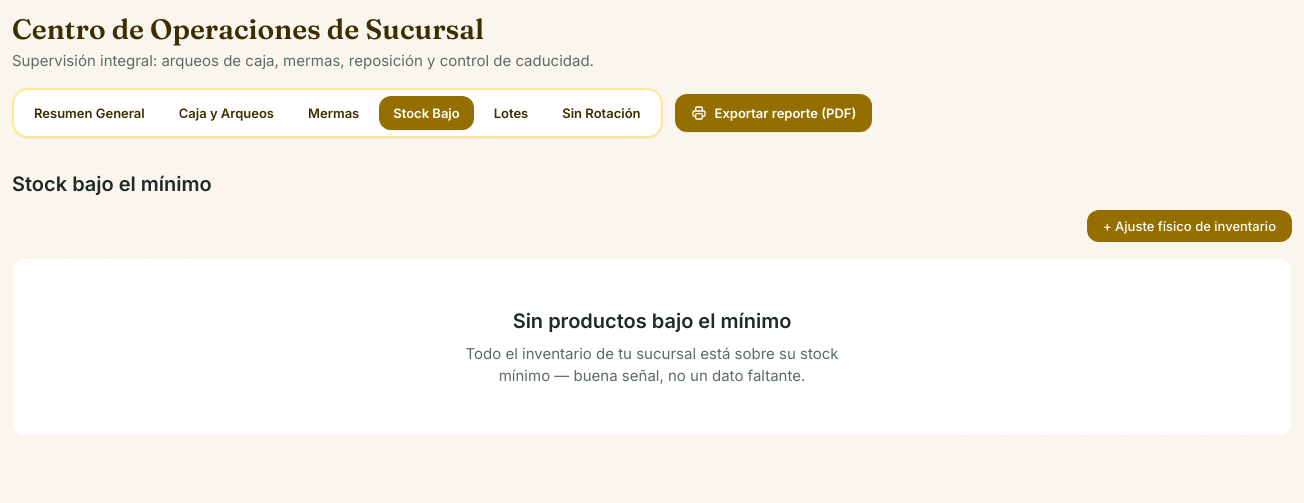
DashboardSucursal — navegación por secciones y pestañas › permite cambiar a la sección de Mermas al hacer clic en su pestaña
Expected: the text "Stock bajo el mínimo" is shown, [12, 172, 212, 196]
Click the button "Mermas".
click(334, 113)  # box [294, 96, 373, 130]
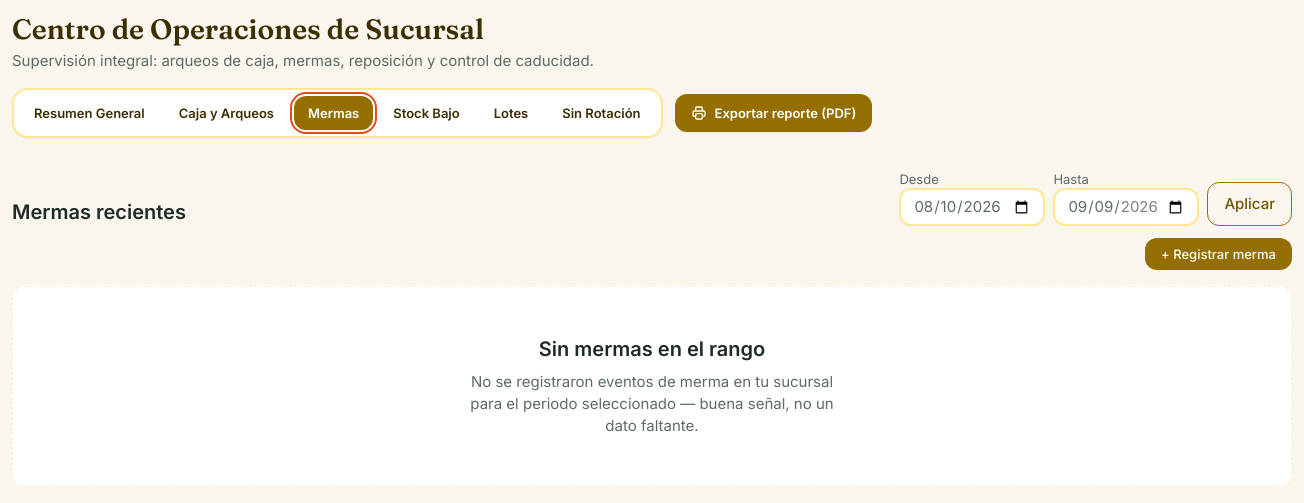
Expected: the text "Mermas recientes" is shown, [12, 198, 186, 226]
Expected: the text "Stock bajo el mínimo" is gone
